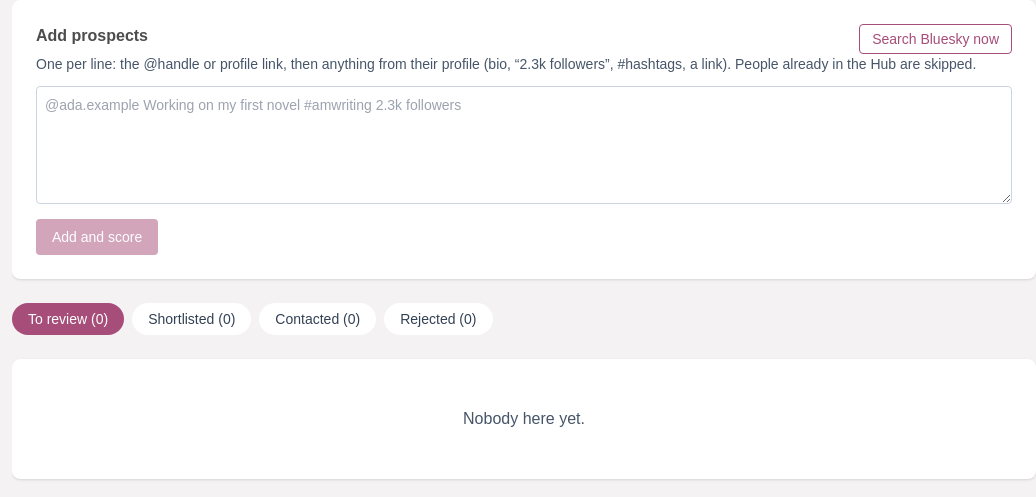
Test: ProspectsView › shows an import error and keeps the text
The image size is (1036, 497).
Type "@ada.example" into the text box named "Prospects to add" at (524, 145), box 36,86 -> 1012,204
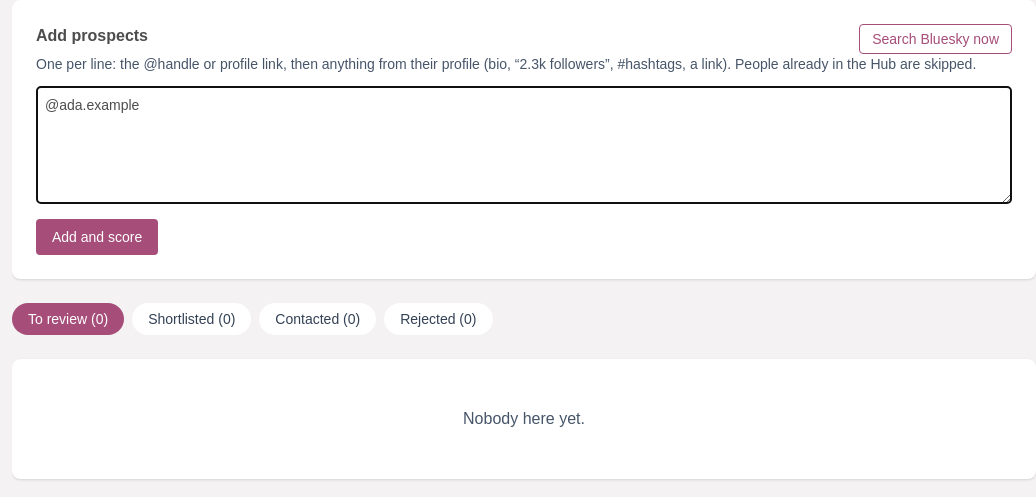
Click the button "Add and score" at (97, 237), box 36,219 -> 158,255
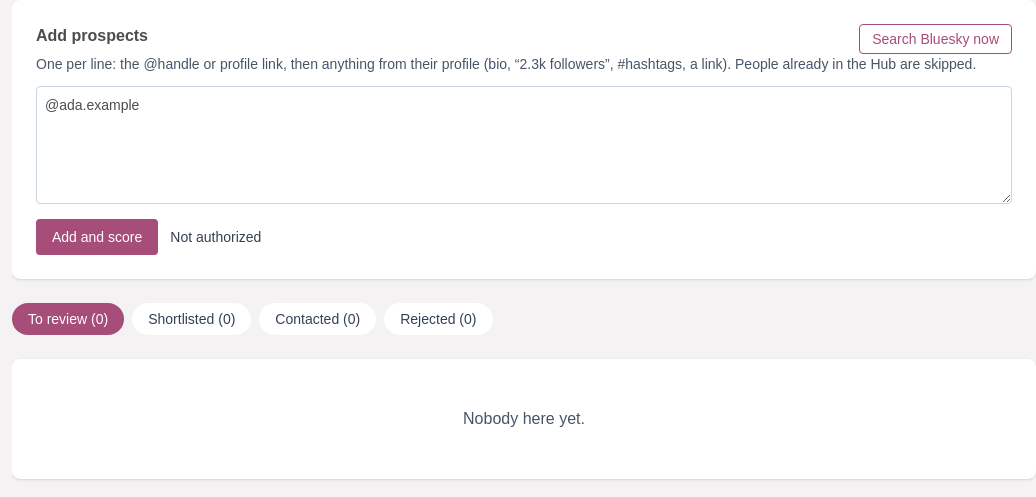
Expected: the message reads "Not authorized", 170,229 -> 261,245
